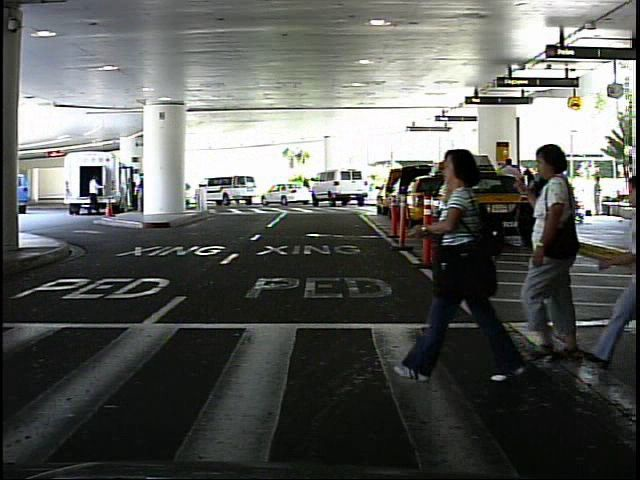person: (511, 133, 612, 378), (420, 135, 512, 392), (86, 170, 105, 220), (588, 172, 607, 218)
